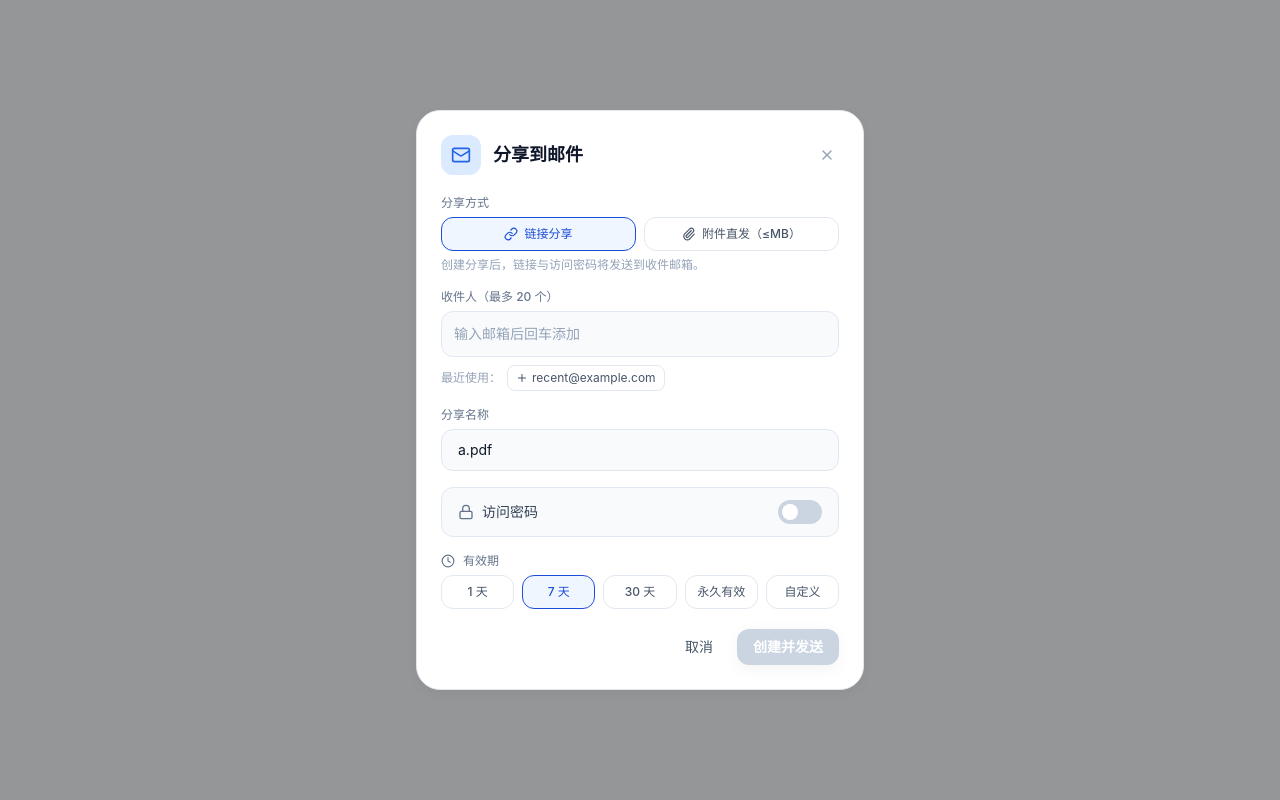
Test case: EmailShareModal › adds recipients from recent list and input, and removes a chip
Click the button "recent@example.com" at (586, 378), box [507,365,665,391]
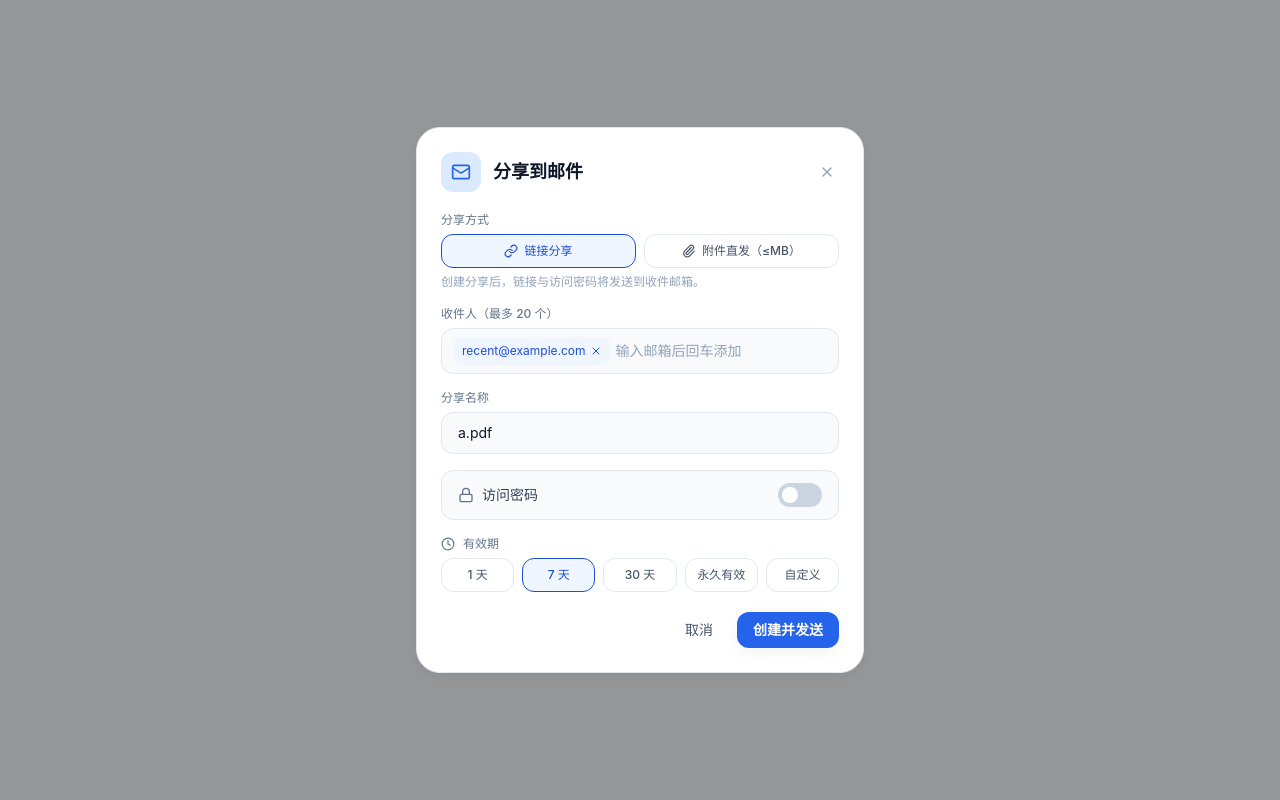
Expected: the text "recent@example.com" is shown, [454,337,610,365]
Type "new@example.com" into the field with placeholder "输入邮箱后回车添加" at (721, 351), box [616,337,826,365]
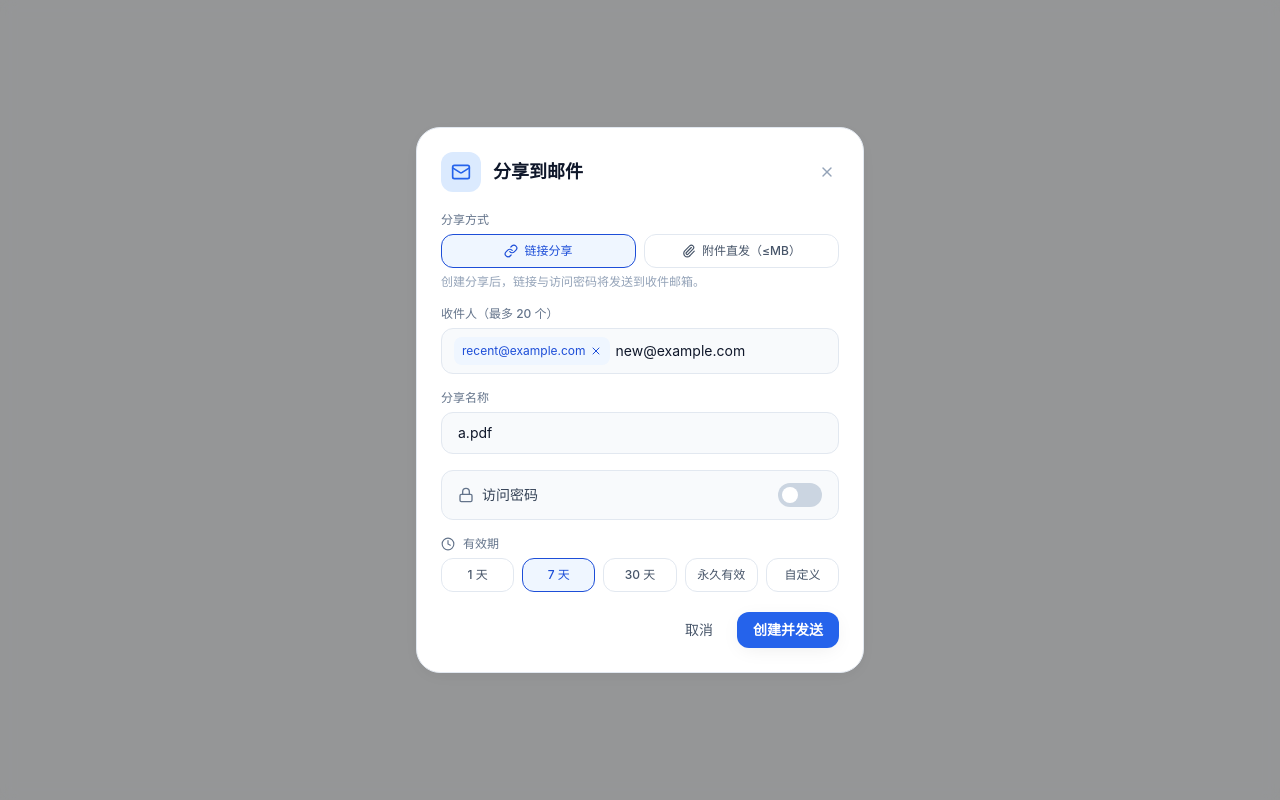
Press Enter in the field with placeholder "输入邮箱后回车添加" next to "recent@example.com", box [616,337,826,365]
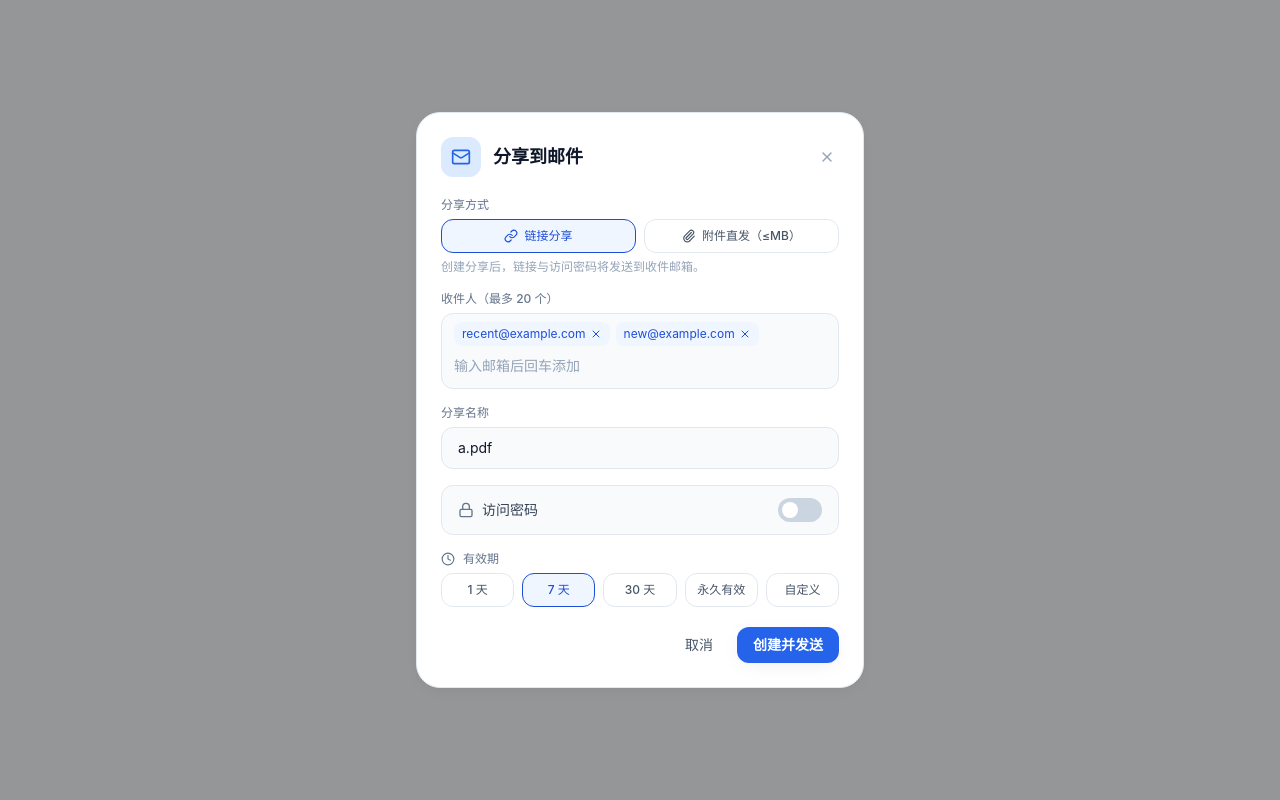
Result: the text "new@example.com" is shown at [616,322,759,346]
Click the button without text next to "new@example.com" at (745, 334), box [739,328,751,340]
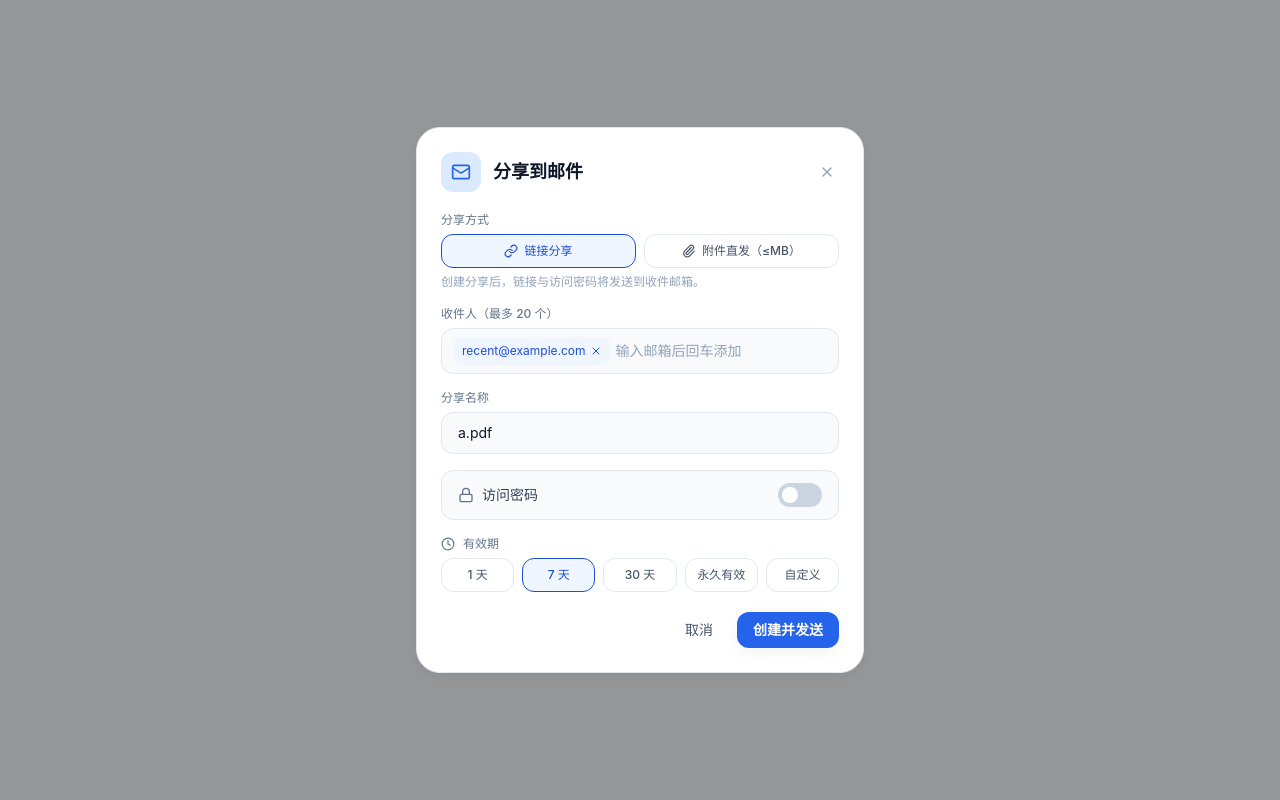
Result: the text "new@example.com" is gone
